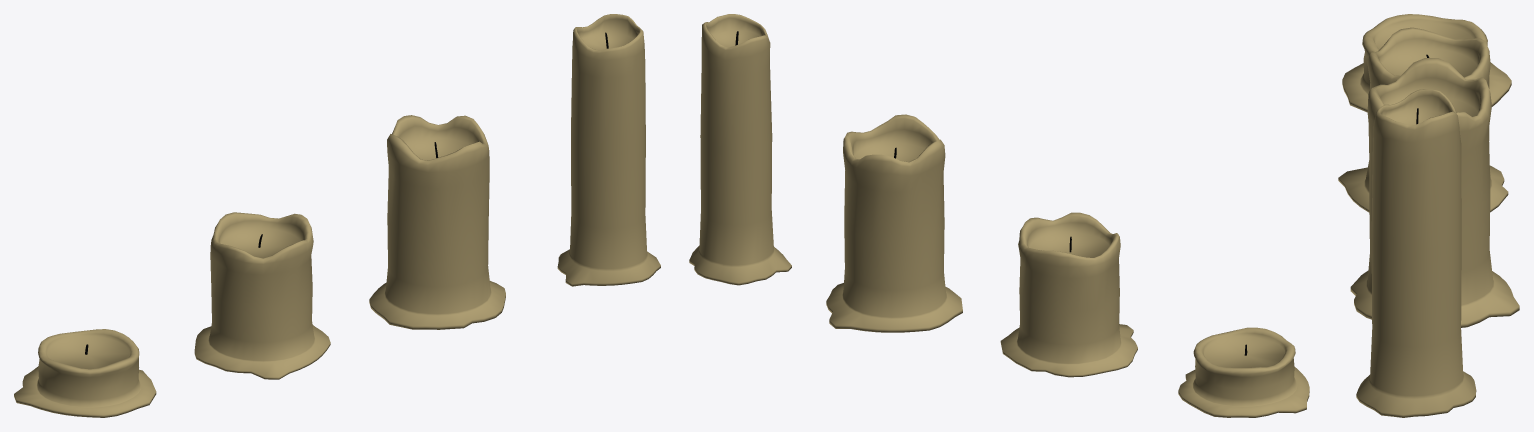
File: uploads_files_3454874_Candles.fbx
3 views of the same model, side by side, from view 1: azimuth 30°, elevation 25°; view 2: azimuth 150°, elevation 25°; view 3: azimuth 270°, elevation 25° (orthographic). The views are drawn at different scales.
Visible parts, largest first — view 1: Candle 2, Candle 3, Candle 1, Candle 4; view 2: Candle 2, Candle 3, Candle 1, Candle 4; view 3: Candle 3, Candle 2, Candle 1, Candle 4.
Part boxes in pixels (box(x1,y1,x2,y2)): Candle 2: box(369, 115, 505, 329); Candle 3: box(557, 14, 660, 286); Candle 1: box(194, 212, 330, 379); Candle 4: box(14, 329, 156, 417); Candle 2: box(826, 114, 962, 332); Candle 3: box(689, 14, 791, 285); Candle 1: box(1000, 212, 1137, 377); Candle 4: box(1178, 327, 1309, 417); Candle 3: box(1356, 89, 1476, 417); Candle 2: box(1350, 58, 1519, 327); Candle 1: box(1338, 27, 1508, 212); Candle 4: box(1342, 14, 1511, 112).
Size of the model in its own units: 889 by 327 by 184.
